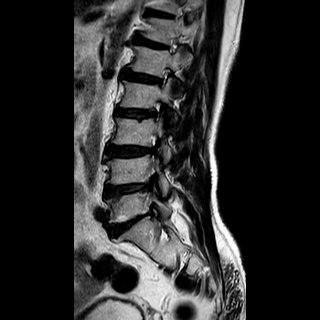LFS2: (153, 63, 175, 92)
